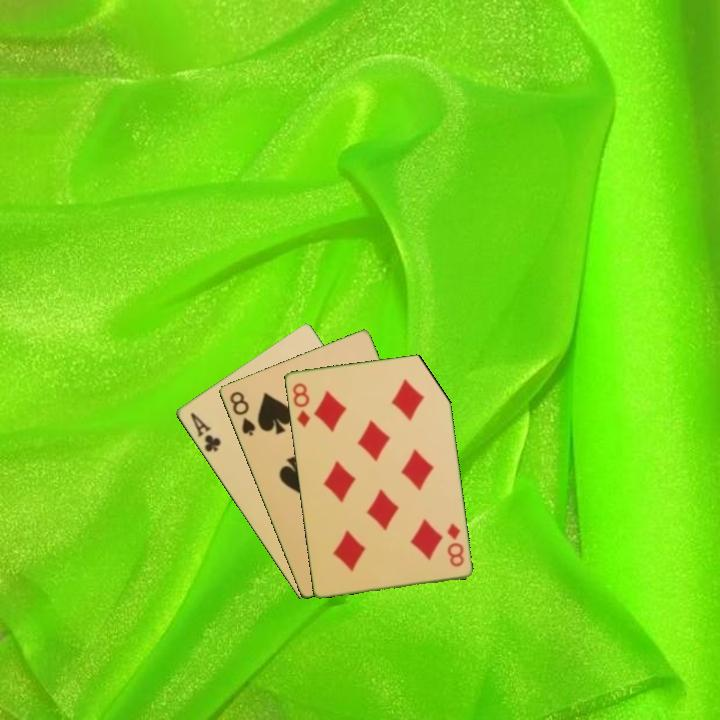8d: (289, 379, 313, 430), (443, 520, 466, 569)
8s: (226, 388, 258, 439)
Ac: (186, 409, 224, 455)
